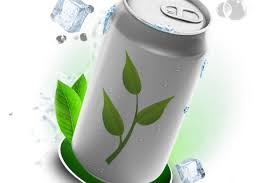can: (64, 1, 222, 183)
